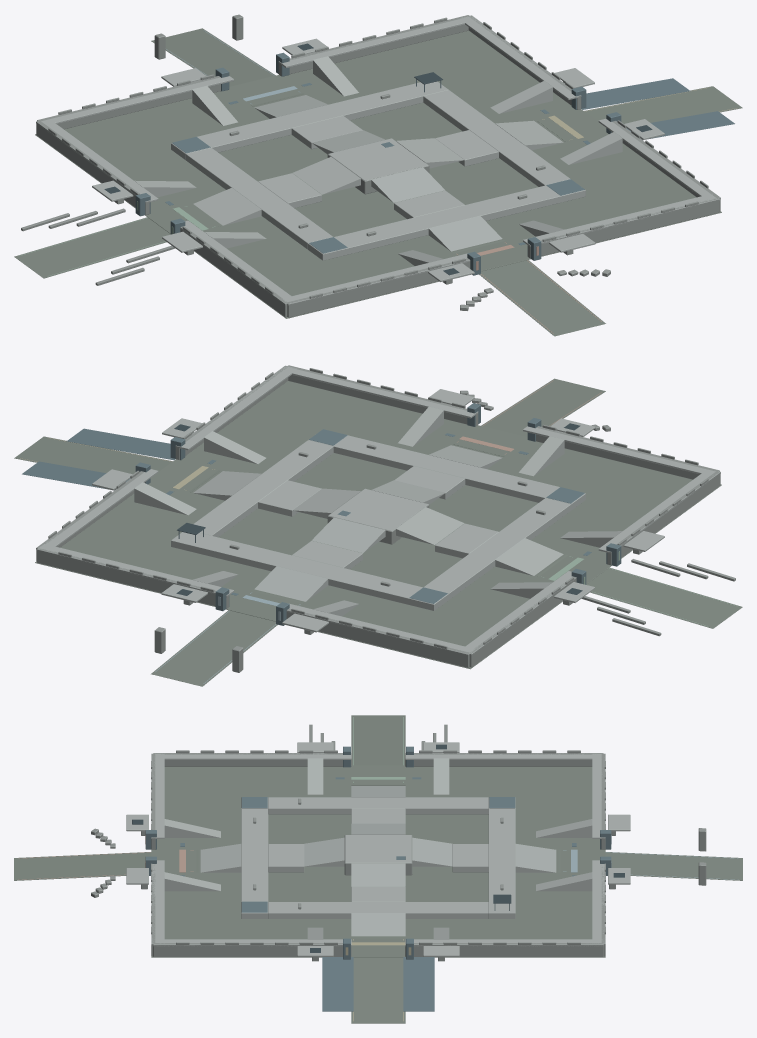
Rendered from SteppedStronghold.glb.
3 views of the same model, one above another, from view 1: azimuth 30°, elevation 25°; view 2: azimuth 150°, elevation 25°; view 3: azimuth 270°, elevation 25° (orthographic). The views are drawn at different scales.
Parts seen in each view (by area): view 1: CourtyardFoundation, MiddleTerrace_South, MiddleTerrace_North, SOUTH_Approach24m, WEST_Approach24m, MiddleTerrace_West, MiddleTerrace_East, NORTH_Approach24m, EAST_Approach24m, FallbackSurface, SOUTH_WallPanel_-1, SOUTH_WallPanel_1 (+34 smaller); view 2: CourtyardFoundation, MiddleTerrace_North, MiddleTerrace_South, NORTH_Approach24m, WEST_Approach24m, MiddleTerrace_West, MiddleTerrace_East, SOUTH_Approach24m, EAST_Approach24m, FallbackSurface, NORTH_WallPanel_1, NORTH_WallPanel_-1 (+34 smaller); view 3: CourtyardFoundation, MiddleTerrace_West, EAST_Approach24m, MiddleTerrace_East, SOUTH_Approach24m, MiddleTerrace_North, NORTH_Approach24m, WEST_Approach24m, MiddleTerrace_South, EAST_WallPanel_-1, EAST_WallPanel_1, FallbackSurface (+30 smaller).
Part boxes in pixels (x1,y1,x2,y2): CourtyardFoundation: (35, 30, 721, 318); MiddleTerrace_South: (308, 185, 585, 260); MiddleTerrace_North: (171, 81, 448, 160); SOUTH_Approach24m: (452, 240, 605, 336); WEST_Approach24m: (14, 204, 220, 278); MiddleTerrace_West: (186, 148, 332, 249); MiddleTerrace_East: (423, 90, 570, 186); NORTH_Approach24m: (151, 28, 304, 106); EAST_Approach24m: (536, 86, 742, 141); FallbackSurface: (329, 138, 427, 180); SOUTH_WallPanel_-1: (287, 258, 470, 317); SOUTH_WallPanel_1: (528, 198, 719, 258); CourtyardFoundation: (35, 381, 721, 669); MiddleTerrace_North: (171, 532, 448, 610); MiddleTerrace_South: (308, 435, 585, 510); NORTH_Approach24m: (151, 590, 304, 686); WEST_Approach24m: (536, 554, 742, 628); MiddleTerrace_West: (424, 498, 570, 599); MiddleTerrace_East: (193, 440, 333, 537); SOUTH_Approach24m: (452, 378, 605, 456); EAST_Approach24m: (14, 436, 220, 492); FallbackSurface: (328, 488, 428, 530); NORTH_WallPanel_1: (286, 608, 469, 667); NORTH_WallPanel_-1: (37, 548, 228, 608); CourtyardFoundation: (151, 765, 605, 957); MiddleTerrace_West: (268, 797, 488, 814); EAST_Approach24m: (351, 937, 405, 1023); MiddleTerrace_East: (268, 902, 488, 918); SOUTH_Approach24m: (14, 849, 198, 880); MiddleTerrace_North: (488, 797, 515, 918); NORTH_Approach24m: (558, 849, 742, 880); WEST_Approach24m: (351, 715, 405, 785); MiddleTerrace_South: (241, 797, 268, 918); EAST_WallPanel_-1: (153, 943, 351, 956); EAST_WallPanel_1: (405, 943, 603, 956); FallbackSurface: (345, 835, 411, 862).
Bounding box in the file's own units: 324 × 12.07 × 324.
